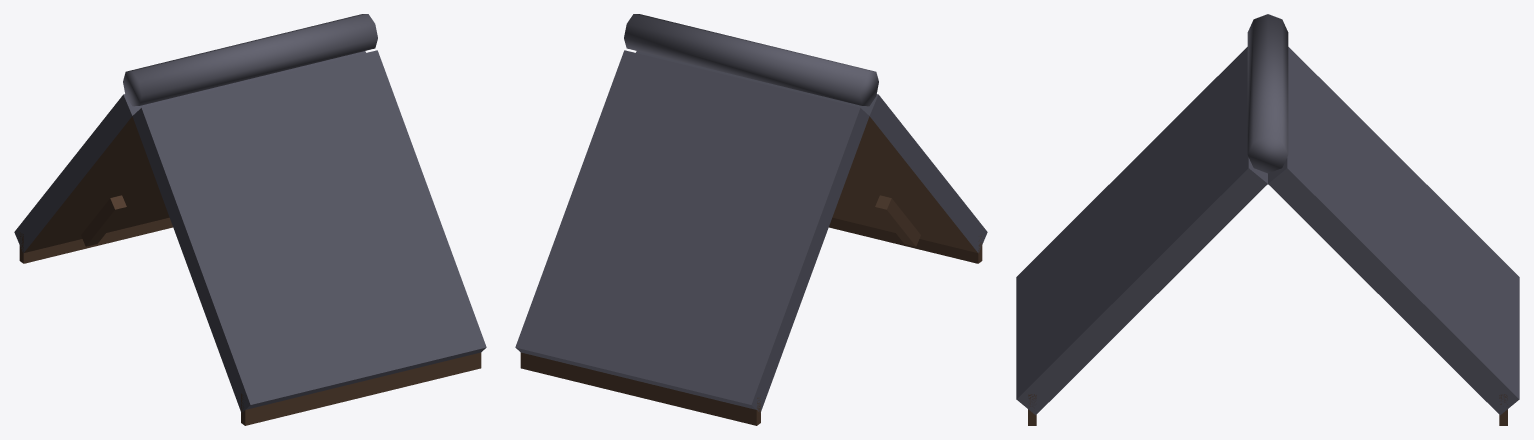
The model's file is kit_timber_slate_w1.glb.
3 views of the same model, side by side, from view 1: azimuth 30°, elevation 25°; view 2: azimuth 150°, elevation 25°; view 3: azimuth 270°, elevation 25° (orthographic). The views are drawn at different scales.
Visible parts, largest first — view 1: kit_timber_slate_w1; view 2: kit_timber_slate_w1; view 3: kit_timber_slate_w1.
Boxes of the visible parts, x1,y1,x2,y2 form: kit_timber_slate_w1: (14,14,486,425); kit_timber_slate_w1: (515,14,987,425); kit_timber_slate_w1: (1016,14,1519,425).
Size of the model in its own units: 1 by 1.1 by 1.73.
